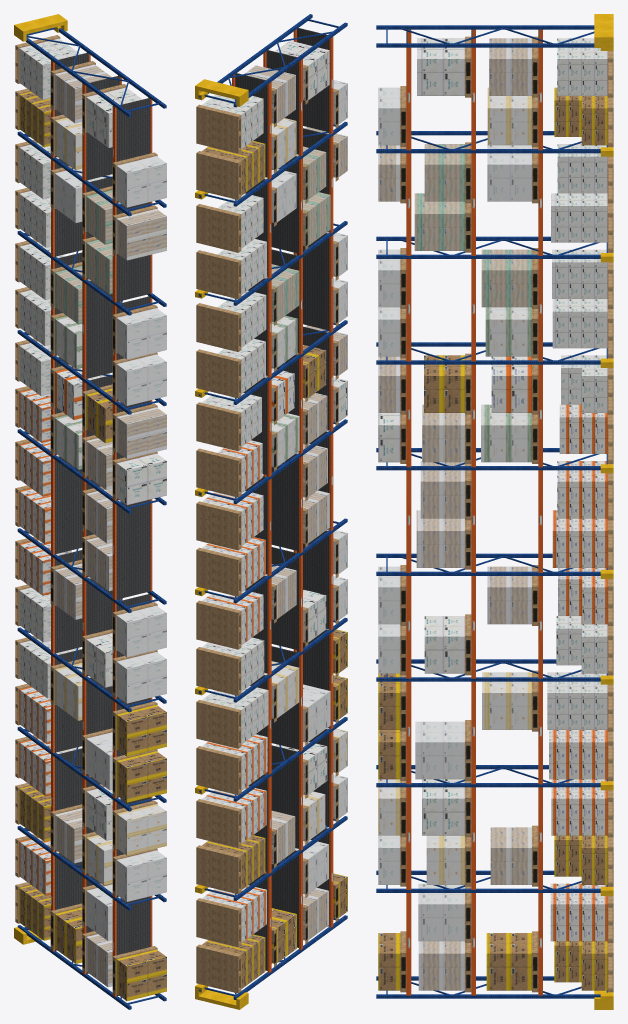
The model's file is racks_pw_s.gltf.
3 views of the same model, side by side, from view 1: azimuth 30°, elevation 25°; view 2: azimuth 150°, elevation 25°; view 3: azimuth 270°, elevation 25° (orthographic). The views are drawn at different scales.
Parts seen in each view (by area): view 1: racks_pw_s; view 2: racks_pw_s; view 3: racks_pw_s.
Boxes of the visible parts, x1,y1,x2,y2 form: racks_pw_s: (14,14,166,1009); racks_pw_s: (195,14,347,1009); racks_pw_s: (376,14,613,1009).
Size of the model in its own units: 1.27 by 24.86 by 5.5.
17 materials, 17 textured.
